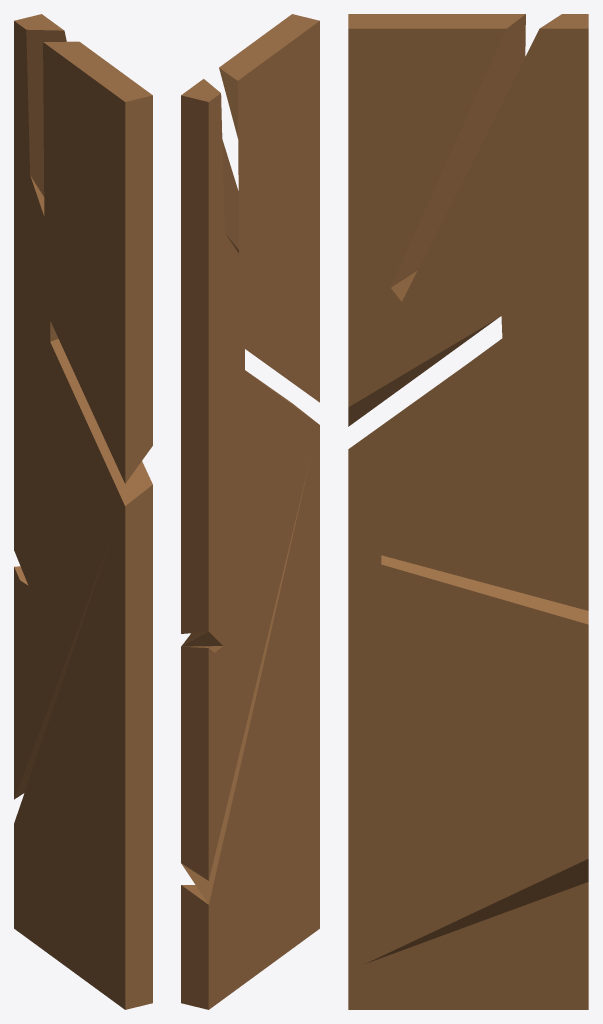
Rendered from MadeiraLowPoly.fbx.
The picture shows the model from 3 angles, left to right: view 1: azimuth 30°, elevation 25°; view 2: azimuth 150°, elevation 25°; view 3: azimuth 270°, elevation 25°; orthographic projection. The views are drawn at different scales.
Parts seen in each view (by area): view 1: Cube; view 2: Cube; view 3: Cube.
Part boxes in pixels (left/top/right/bottom): Cube: left=14, top=14, right=152, bottom=1009; Cube: left=181, top=14, right=319, bottom=1009; Cube: left=348, top=14, right=588, bottom=1009.
Bounding box in the file's own units: 28.83 × 901 × 200.
